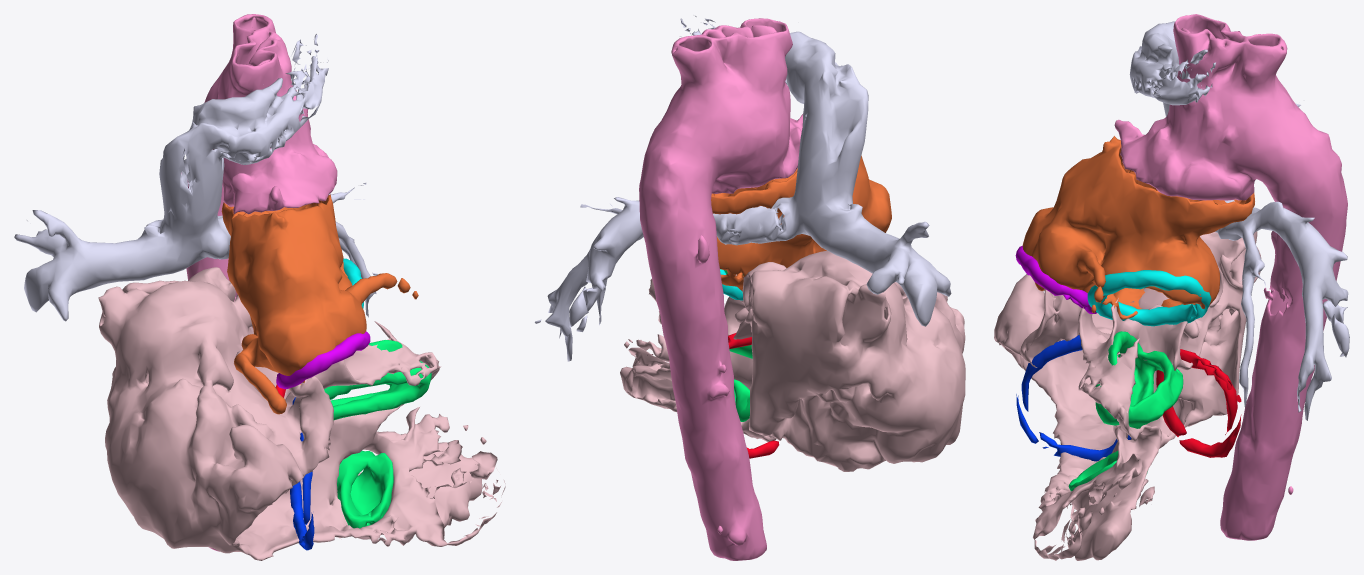
3 renders of one model, left to right at view 1: azimuth 30°, elevation 25°; view 2: azimuth 150°, elevation 25°; view 3: azimuth 270°, elevation 25°, orthographic.
Parts seen in each view (by area): view 1: intracardiac, pa, artery, ao, VSD, AoV, TV; view 2: ao, intracardiac, pa, artery, VSD, MV; view 3: ao, intracardiac, artery, pa, VSD, PV, MV, TV, AoV.
Boxes of the visible parts, x1,y1,x2,y2 form: intracardiac: (98,267,505,560); pa: (14,34,377,321); artery: (221,194,418,414); ao: (181,14,337,551); VSD: (324,340,431,528); AoV: (276,331,370,389); TV: (290,397,314,550); ao: (639,18,803,560); intracardiac: (620,250,965,471); pa: (534,16,951,361); artery: (711,155,891,291); VSD: (724,270,752,421); MV: (728,332,779,458); ao: (1114,14,1347,540); intracardiac: (994,231,1261,560); artery: (1022,136,1254,319); pa: (1129,21,1349,420); VSD: (1068,331,1183,491); PV: (1087,270,1211,326); MV: (1156,349,1241,457); TV: (1016,335,1131,461); AoV: (1015,246,1096,313).
Bounding box in the file's own units: 96.78 × 122 × 77.35.
